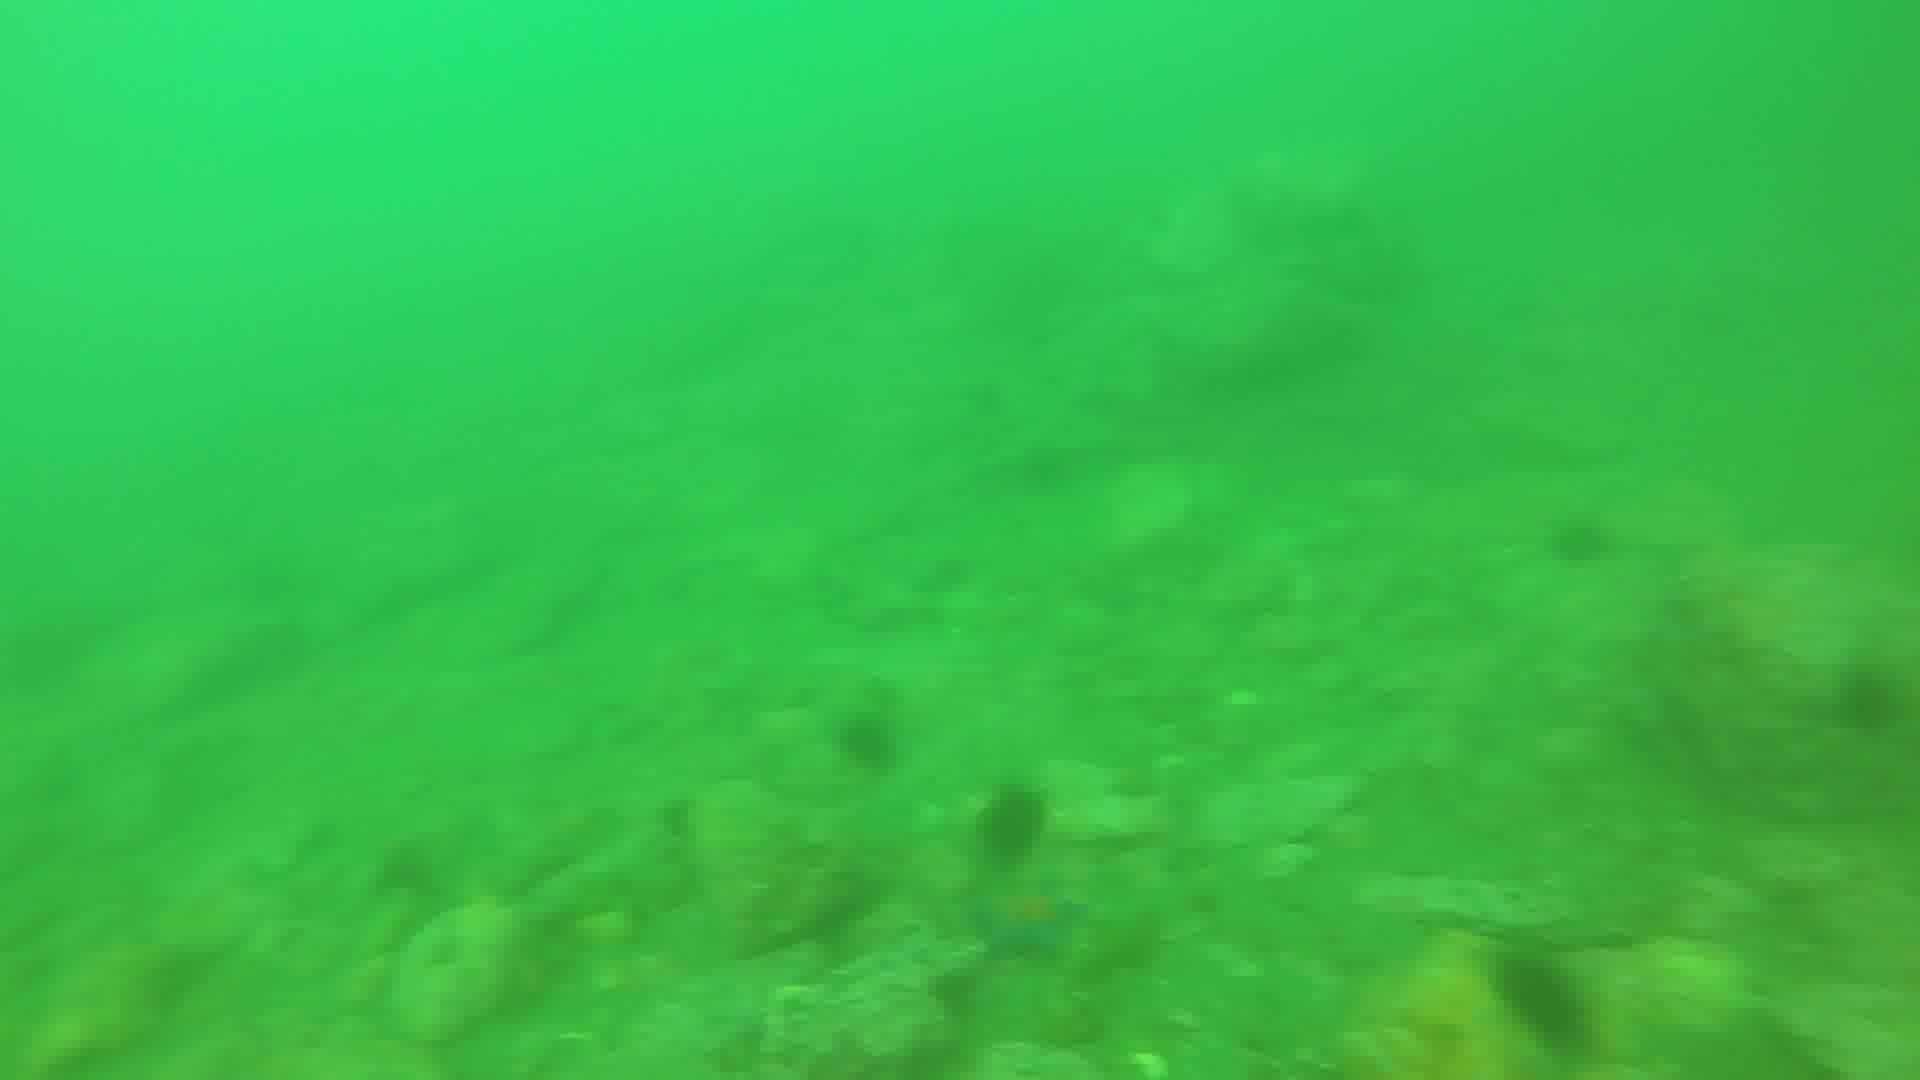echinus: (1489, 948, 1592, 1051), (971, 781, 1054, 866), (1829, 661, 1907, 737), (829, 708, 905, 775), (1543, 510, 1615, 571)
starfish: (965, 876, 1087, 964)
